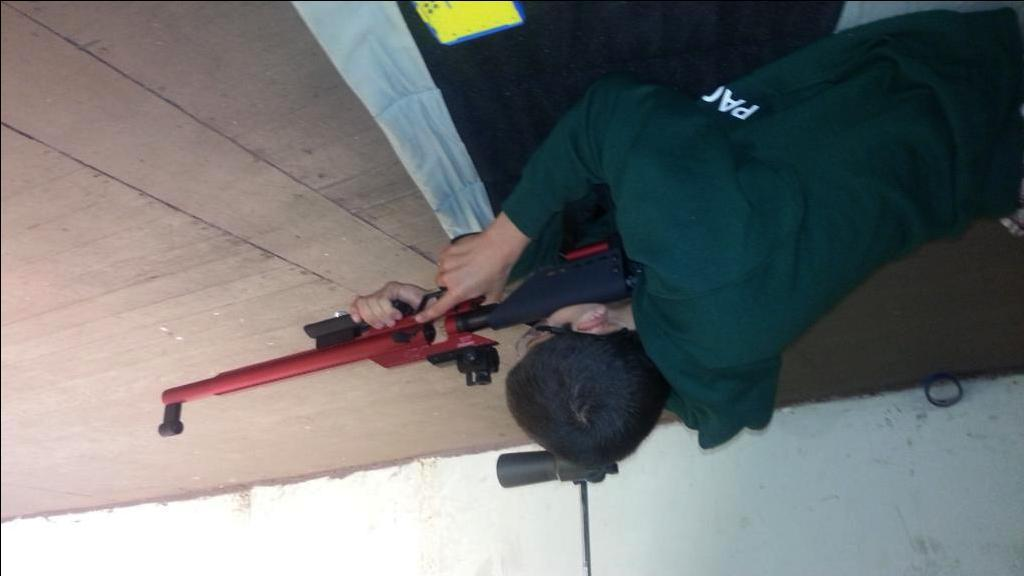gun: (153, 234, 627, 436)
